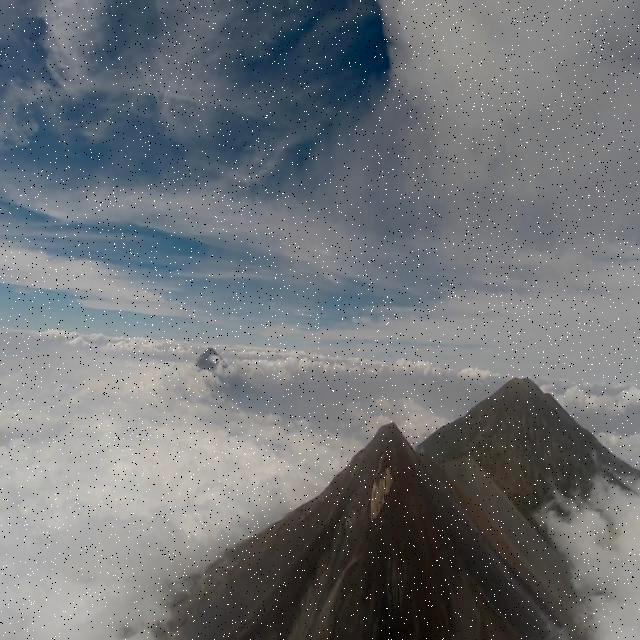Summit: (294, 418, 462, 530)
